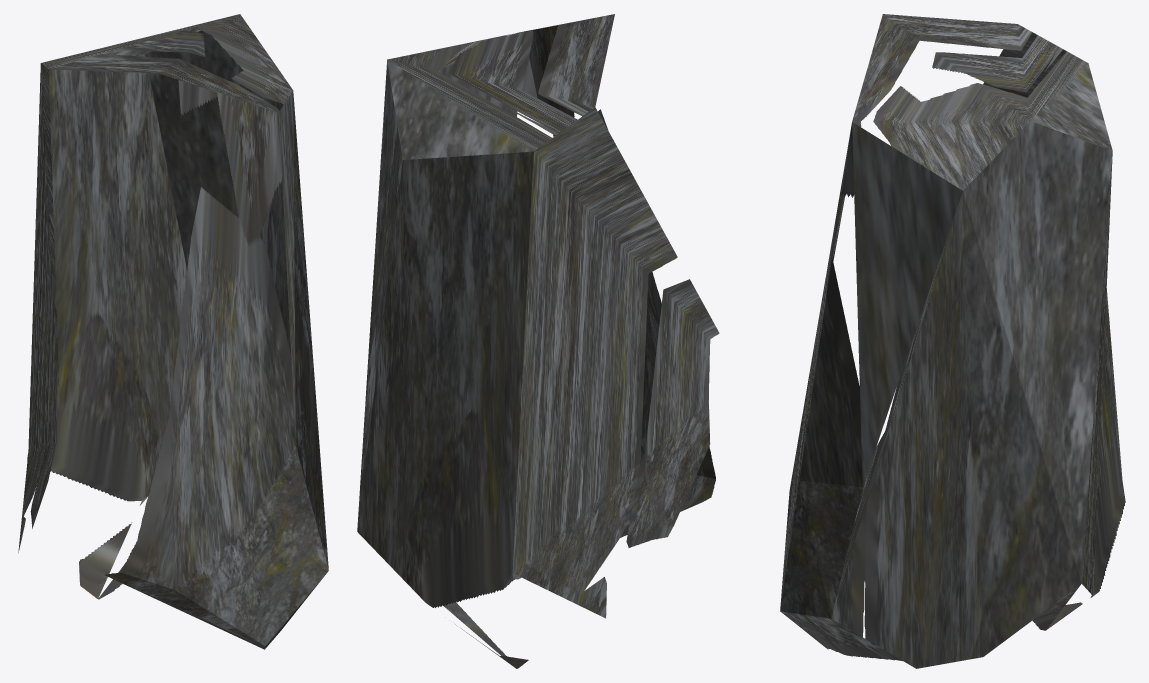
Rendered from rock2_vertical.fbx.
3 views of the same model, side by side, from view 1: azimuth 30°, elevation 25°; view 2: azimuth 150°, elevation 25°; view 3: azimuth 270°, elevation 25° (orthographic). The views are drawn at different scales.
Visible parts, largest first — view 1: Cube.002; view 2: Cube.002; view 3: Cube.002.
Boxes of the visible parts, bbox=[...] form: Cube.002: bbox=[18, 14, 328, 649]; Cube.002: bbox=[357, 14, 719, 668]; Cube.002: bbox=[780, 14, 1125, 668].
Size of the model in its own units: 706 by 1395 by 702.
Materials: 1 (1 with a texture image).
